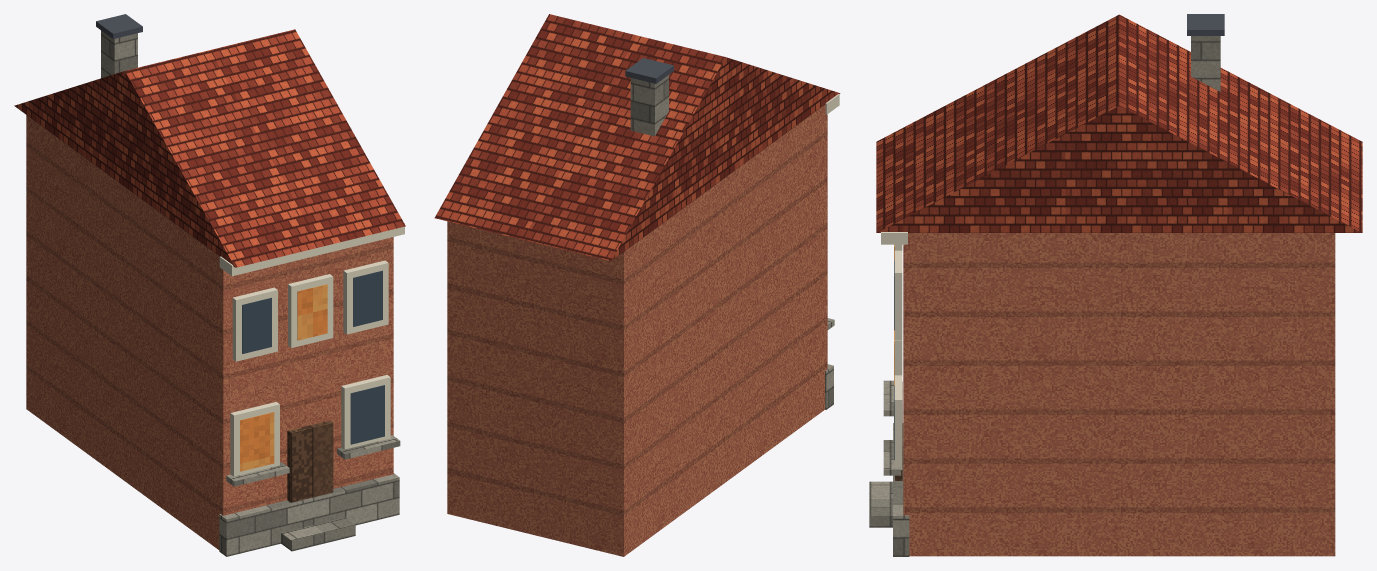
File: ENV_C_Facade_0.fbx
3 renders of one model, left to right at view 1: azimuth 30°, elevation 25°; view 2: azimuth 150°, elevation 25°; view 3: azimuth 270°, elevation 25°, orthographic. The views are drawn at different scales.
Parts seen in each view (by area): view 1: ENV_C_Facade_0; view 2: ENV_C_Facade_0; view 3: ENV_C_Facade_0.
Boxes of the visible parts, x1,y1,x2,y2 form: ENV_C_Facade_0: (14, 14, 405, 556); ENV_C_Facade_0: (434, 14, 840, 556); ENV_C_Facade_0: (869, 14, 1362, 556).
Bounding box in the file's own units: 406 × 942 × 913.
8 materials, 5 textured.
